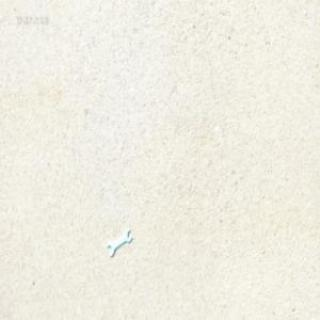Wrenchtrack_idkeyframe: (107, 227, 131, 257)
